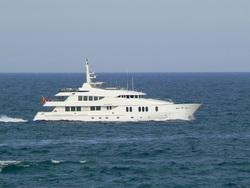yacht: (34, 60, 204, 122)
